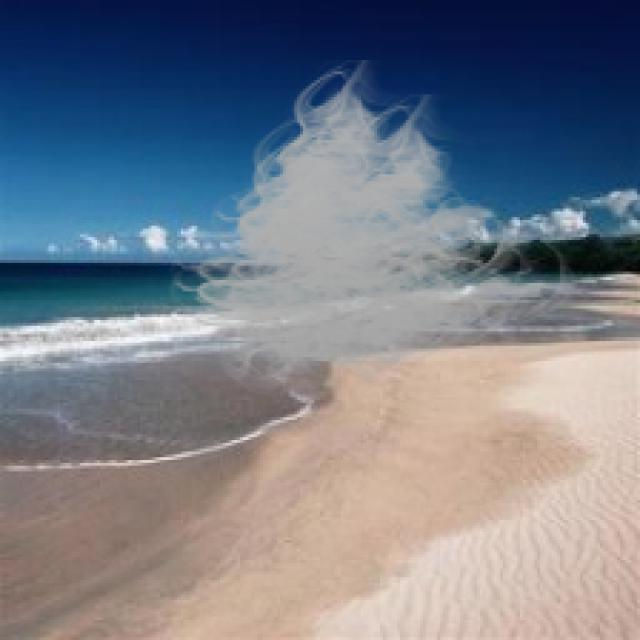Smoke: (157, 60, 583, 403)
